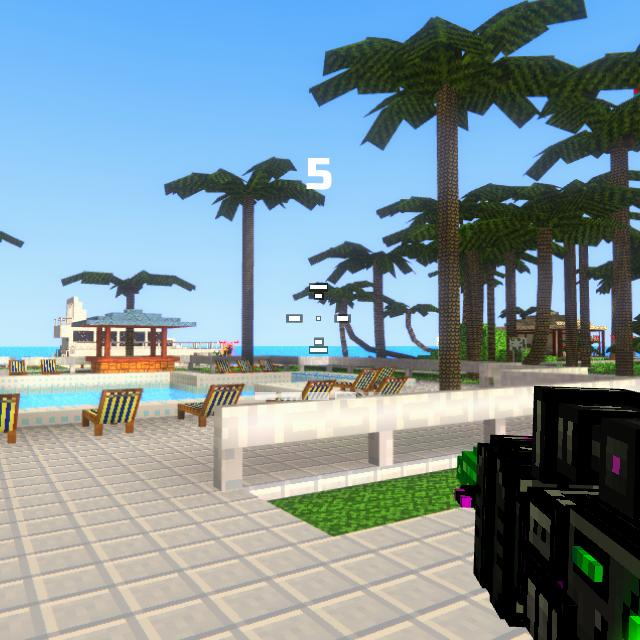Enemy: (223, 345, 233, 355)
